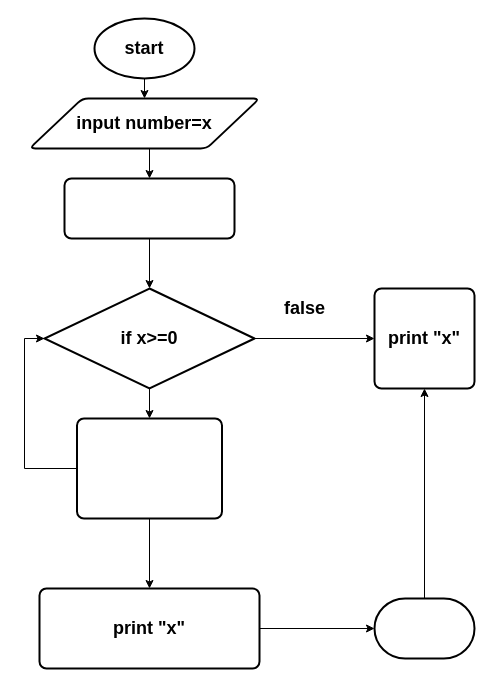
The diagram is 493 pixels wide and 686 high, and some of its shapes have lost their labels. The centre of each missing label's shape, as x and y in pixels:
"stop" goes at (424,628).
"sum=0" goes at (149,208).
"sum=sum+x" goes at (149,468).
